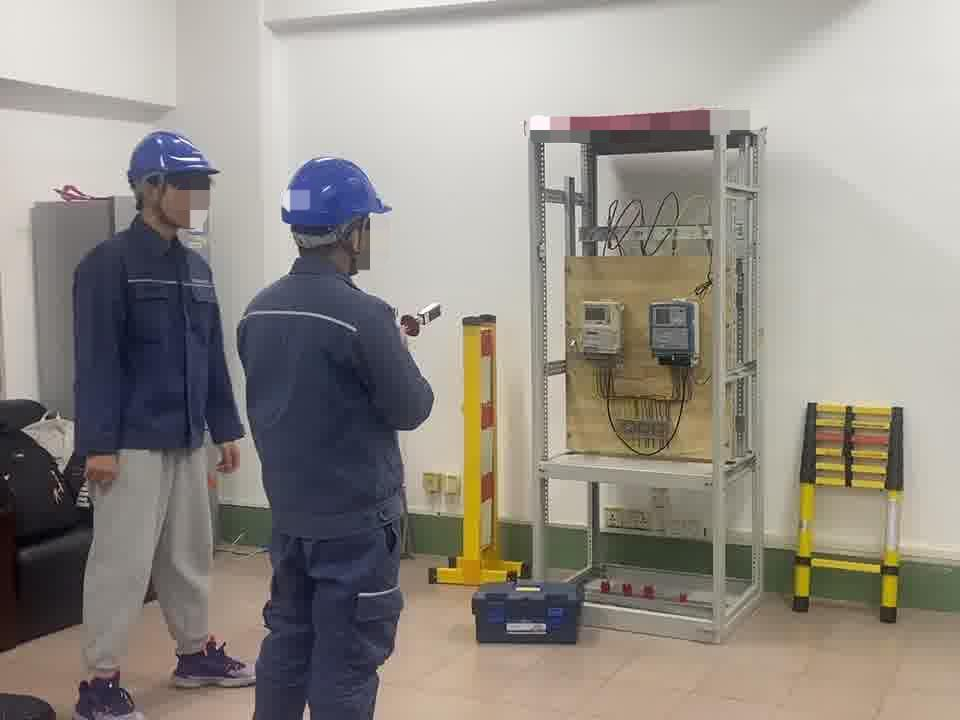halt: (282, 158, 395, 275), (128, 131, 222, 239)
inear: (139, 172, 176, 220), (336, 220, 370, 270)
